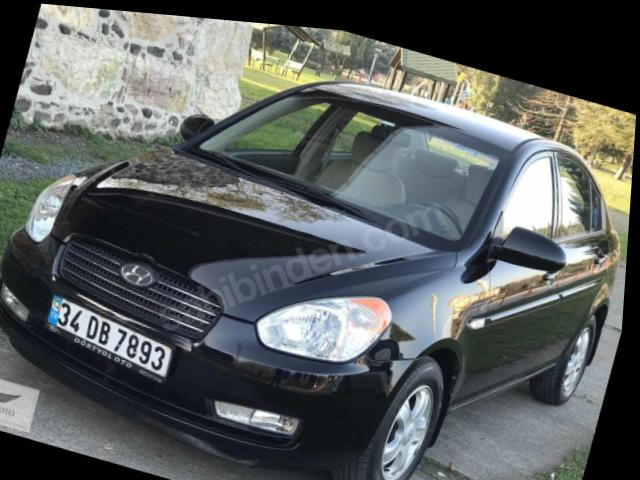plaka: (46, 295, 171, 382)
